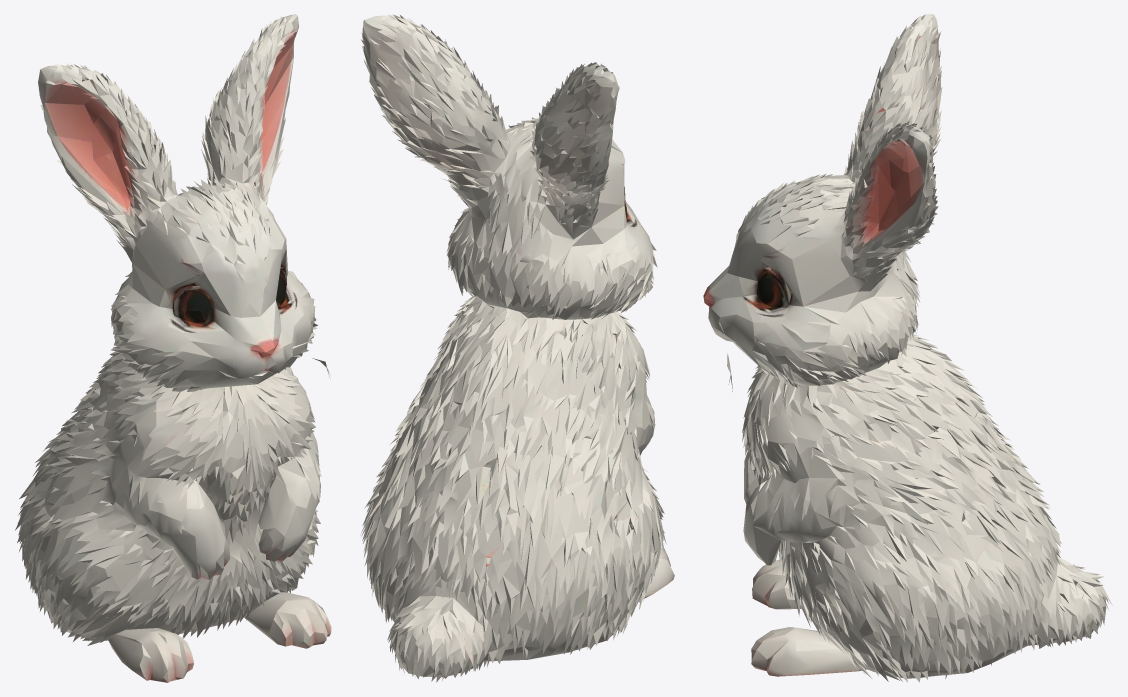
The model's file is rabbit-clover.glb.
3 views of the same model, side by side, from view 1: azimuth 30°, elevation 25°; view 2: azimuth 150°, elevation 25°; view 3: azimuth 270°, elevation 25° (orthographic).
Bounding box in the file's own units: 0.9463 × 1.91 × 1.24.
Materials: 1 (1 with a texture image).
